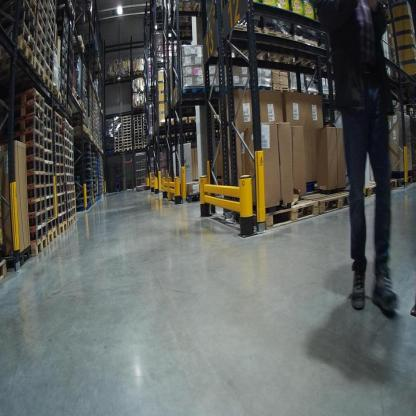pallet: (228, 196, 320, 235), (299, 185, 367, 222), (214, 24, 266, 57), (277, 34, 321, 71), (252, 26, 292, 64), (1, 36, 35, 78), (3, 10, 35, 39), (12, 86, 46, 109), (7, 0, 37, 25), (14, 113, 45, 137), (12, 23, 36, 52), (15, 128, 45, 147), (361, 181, 398, 195), (152, 117, 173, 141), (184, 114, 202, 142), (13, 103, 44, 119), (26, 171, 47, 190), (22, 142, 45, 159), (27, 196, 46, 216), (32, 236, 49, 258), (31, 55, 45, 81), (57, 1, 77, 19), (71, 33, 86, 56), (26, 185, 45, 203), (393, 174, 413, 191), (31, 223, 48, 243), (27, 212, 47, 229), (35, 21, 46, 51), (26, 157, 47, 172), (46, 13, 55, 47), (173, 117, 188, 137), (184, 83, 207, 96), (43, 59, 54, 86), (36, 11, 47, 37), (207, 83, 227, 96), (42, 145, 55, 165), (52, 83, 63, 106), (38, 3, 48, 27), (43, 73, 55, 93), (42, 156, 56, 173), (44, 52, 55, 73), (35, 45, 45, 68), (230, 82, 250, 93), (37, 32, 45, 58), (48, 226, 58, 246), (41, 113, 52, 131), (47, 214, 58, 232), (1, 259, 9, 283), (48, 0, 56, 23), (255, 84, 273, 94), (44, 102, 54, 120), (43, 170, 53, 188), (52, 113, 64, 128), (46, 42, 54, 64), (45, 193, 56, 209), (43, 124, 53, 141), (52, 133, 64, 147), (69, 123, 87, 132), (321, 92, 337, 102), (46, 205, 56, 221), (54, 185, 66, 198), (46, 33, 54, 51), (53, 143, 65, 155), (55, 203, 66, 216), (55, 193, 66, 206), (287, 87, 307, 94), (52, 123, 62, 137), (47, 182, 55, 199), (27, 1, 36, 16), (54, 162, 65, 174), (58, 222, 68, 235), (57, 213, 67, 226), (54, 153, 65, 164), (60, 97, 68, 112), (55, 174, 65, 186), (273, 87, 290, 94), (43, 138, 52, 151), (65, 197, 72, 213), (63, 117, 70, 131), (69, 162, 76, 176), (72, 85, 79, 99), (62, 129, 70, 141), (68, 123, 74, 137), (310, 91, 323, 97), (65, 181, 71, 194), (66, 190, 73, 201), (50, 1, 56, 13), (132, 70, 144, 76), (68, 107, 73, 121), (68, 150, 75, 160), (120, 71, 130, 78), (64, 164, 70, 175), (133, 105, 144, 111), (69, 183, 77, 191), (71, 207, 78, 216), (65, 138, 71, 148), (65, 174, 71, 184), (68, 214, 73, 226), (68, 141, 74, 151), (69, 133, 74, 145), (79, 120, 87, 127), (72, 191, 77, 202), (78, 97, 83, 108), (65, 144, 69, 157), (133, 127, 143, 132), (121, 115, 131, 120), (69, 176, 76, 183), (65, 156, 69, 168), (67, 210, 72, 219), (69, 158, 74, 167), (133, 113, 142, 118), (133, 115, 142, 120), (134, 125, 143, 130), (113, 116, 122, 121), (83, 103, 87, 114), (113, 149, 124, 153), (83, 87, 88, 95), (133, 120, 143, 124), (133, 137, 143, 141), (122, 124, 132, 128), (122, 135, 132, 139), (123, 144, 133, 148), (83, 114, 87, 123), (134, 131, 143, 135), (134, 133, 143, 137), (134, 139, 143, 143), (134, 143, 143, 147), (134, 145, 143, 149), (123, 122, 132, 126), (123, 130, 132, 134), (114, 144, 123, 148), (114, 134, 123, 138), (72, 201, 77, 208), (83, 110, 88, 117), (133, 122, 143, 125), (122, 119, 132, 122), (123, 148, 133, 151), (113, 146, 123, 149), (114, 141, 124, 144), (114, 138, 124, 141), (113, 121, 123, 124), (123, 128, 132, 131), (123, 133, 132, 136), (123, 139, 132, 142), (123, 142, 132, 145), (114, 129, 123, 132), (73, 216, 77, 222), (115, 126, 123, 129), (143, 130, 148, 134), (143, 125, 148, 129), (114, 132, 123, 134), (143, 113, 147, 117), (115, 124, 123, 126), (144, 140, 149, 143), (144, 137, 149, 140), (143, 134, 148, 137), (144, 143, 148, 146), (143, 120, 147, 123), (143, 117, 147, 120), (144, 146, 148, 148), (143, 123, 147, 125), (143, 129, 147, 130)
